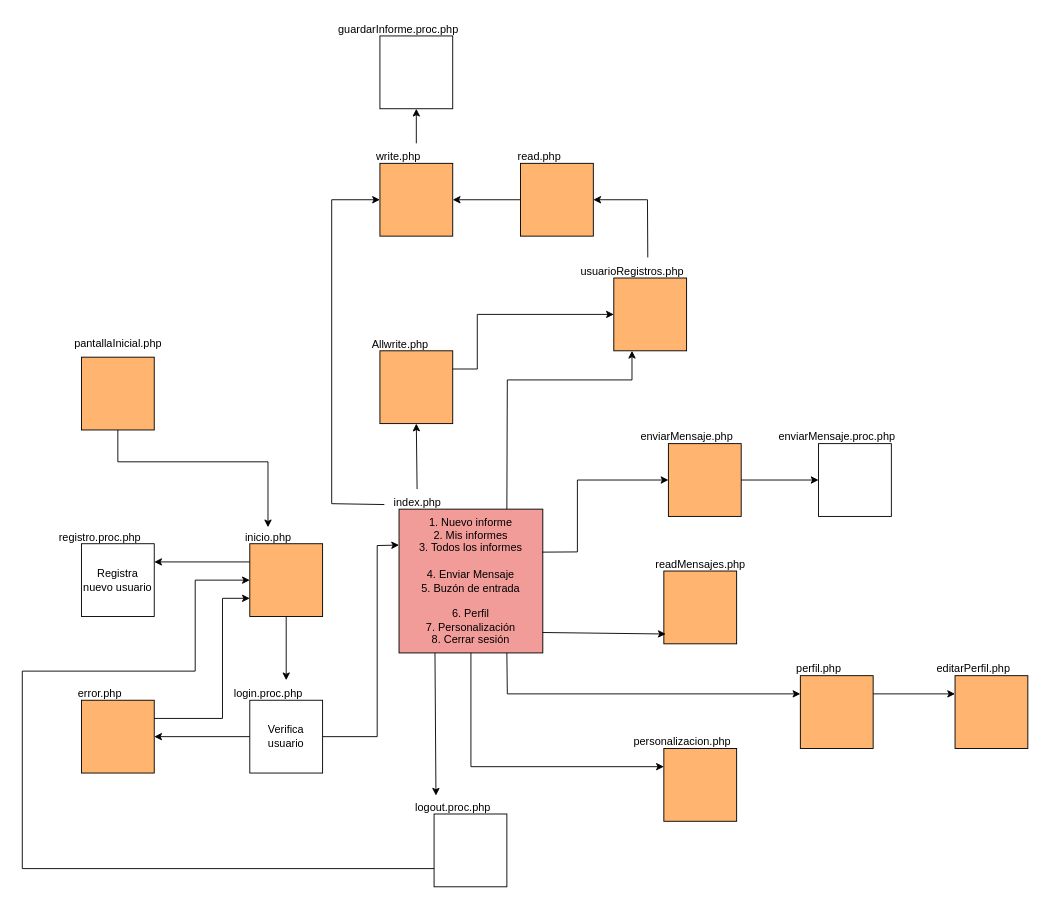
The diagram is 1044 pixels wide and 903 high, and some of its shapes have lost their labels. The shapes that lost their labels are listed below. From the top down, each one's box as (x1, y1, x2, y2) in pixels, then its label:
(81, 356, 154, 430): Iniciar programa
(249, 543, 323, 617): - Registro - Iniciar sesión
